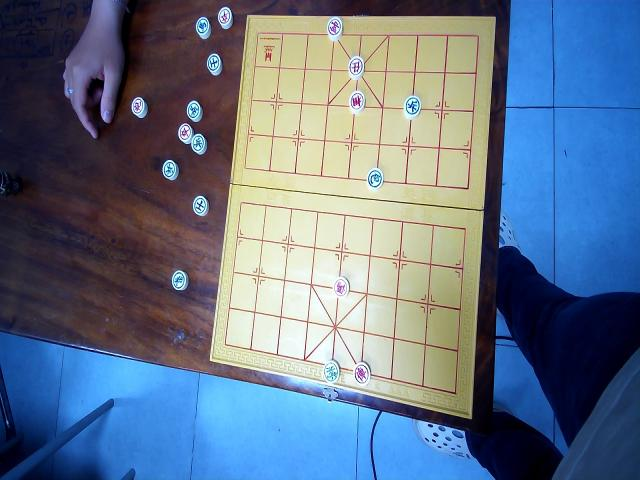piece: (402, 94, 422, 119), (322, 359, 340, 384), (352, 360, 370, 385), (366, 168, 384, 190), (161, 158, 178, 181), (326, 17, 343, 40), (348, 56, 364, 80), (217, 5, 233, 29), (348, 89, 364, 113), (171, 270, 188, 292), (206, 52, 222, 75), (195, 15, 211, 38), (186, 99, 202, 122), (332, 276, 348, 298), (192, 195, 208, 217), (131, 96, 147, 118), (191, 132, 207, 154), (177, 122, 193, 143)
